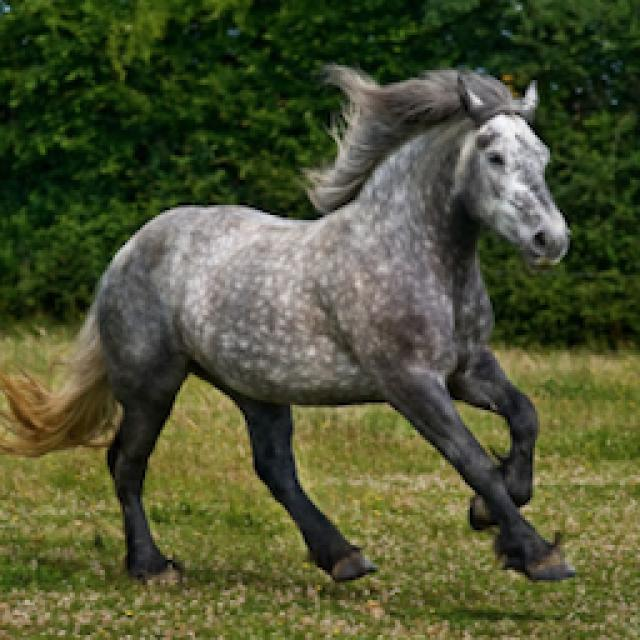Horse: (0, 55, 585, 593)
